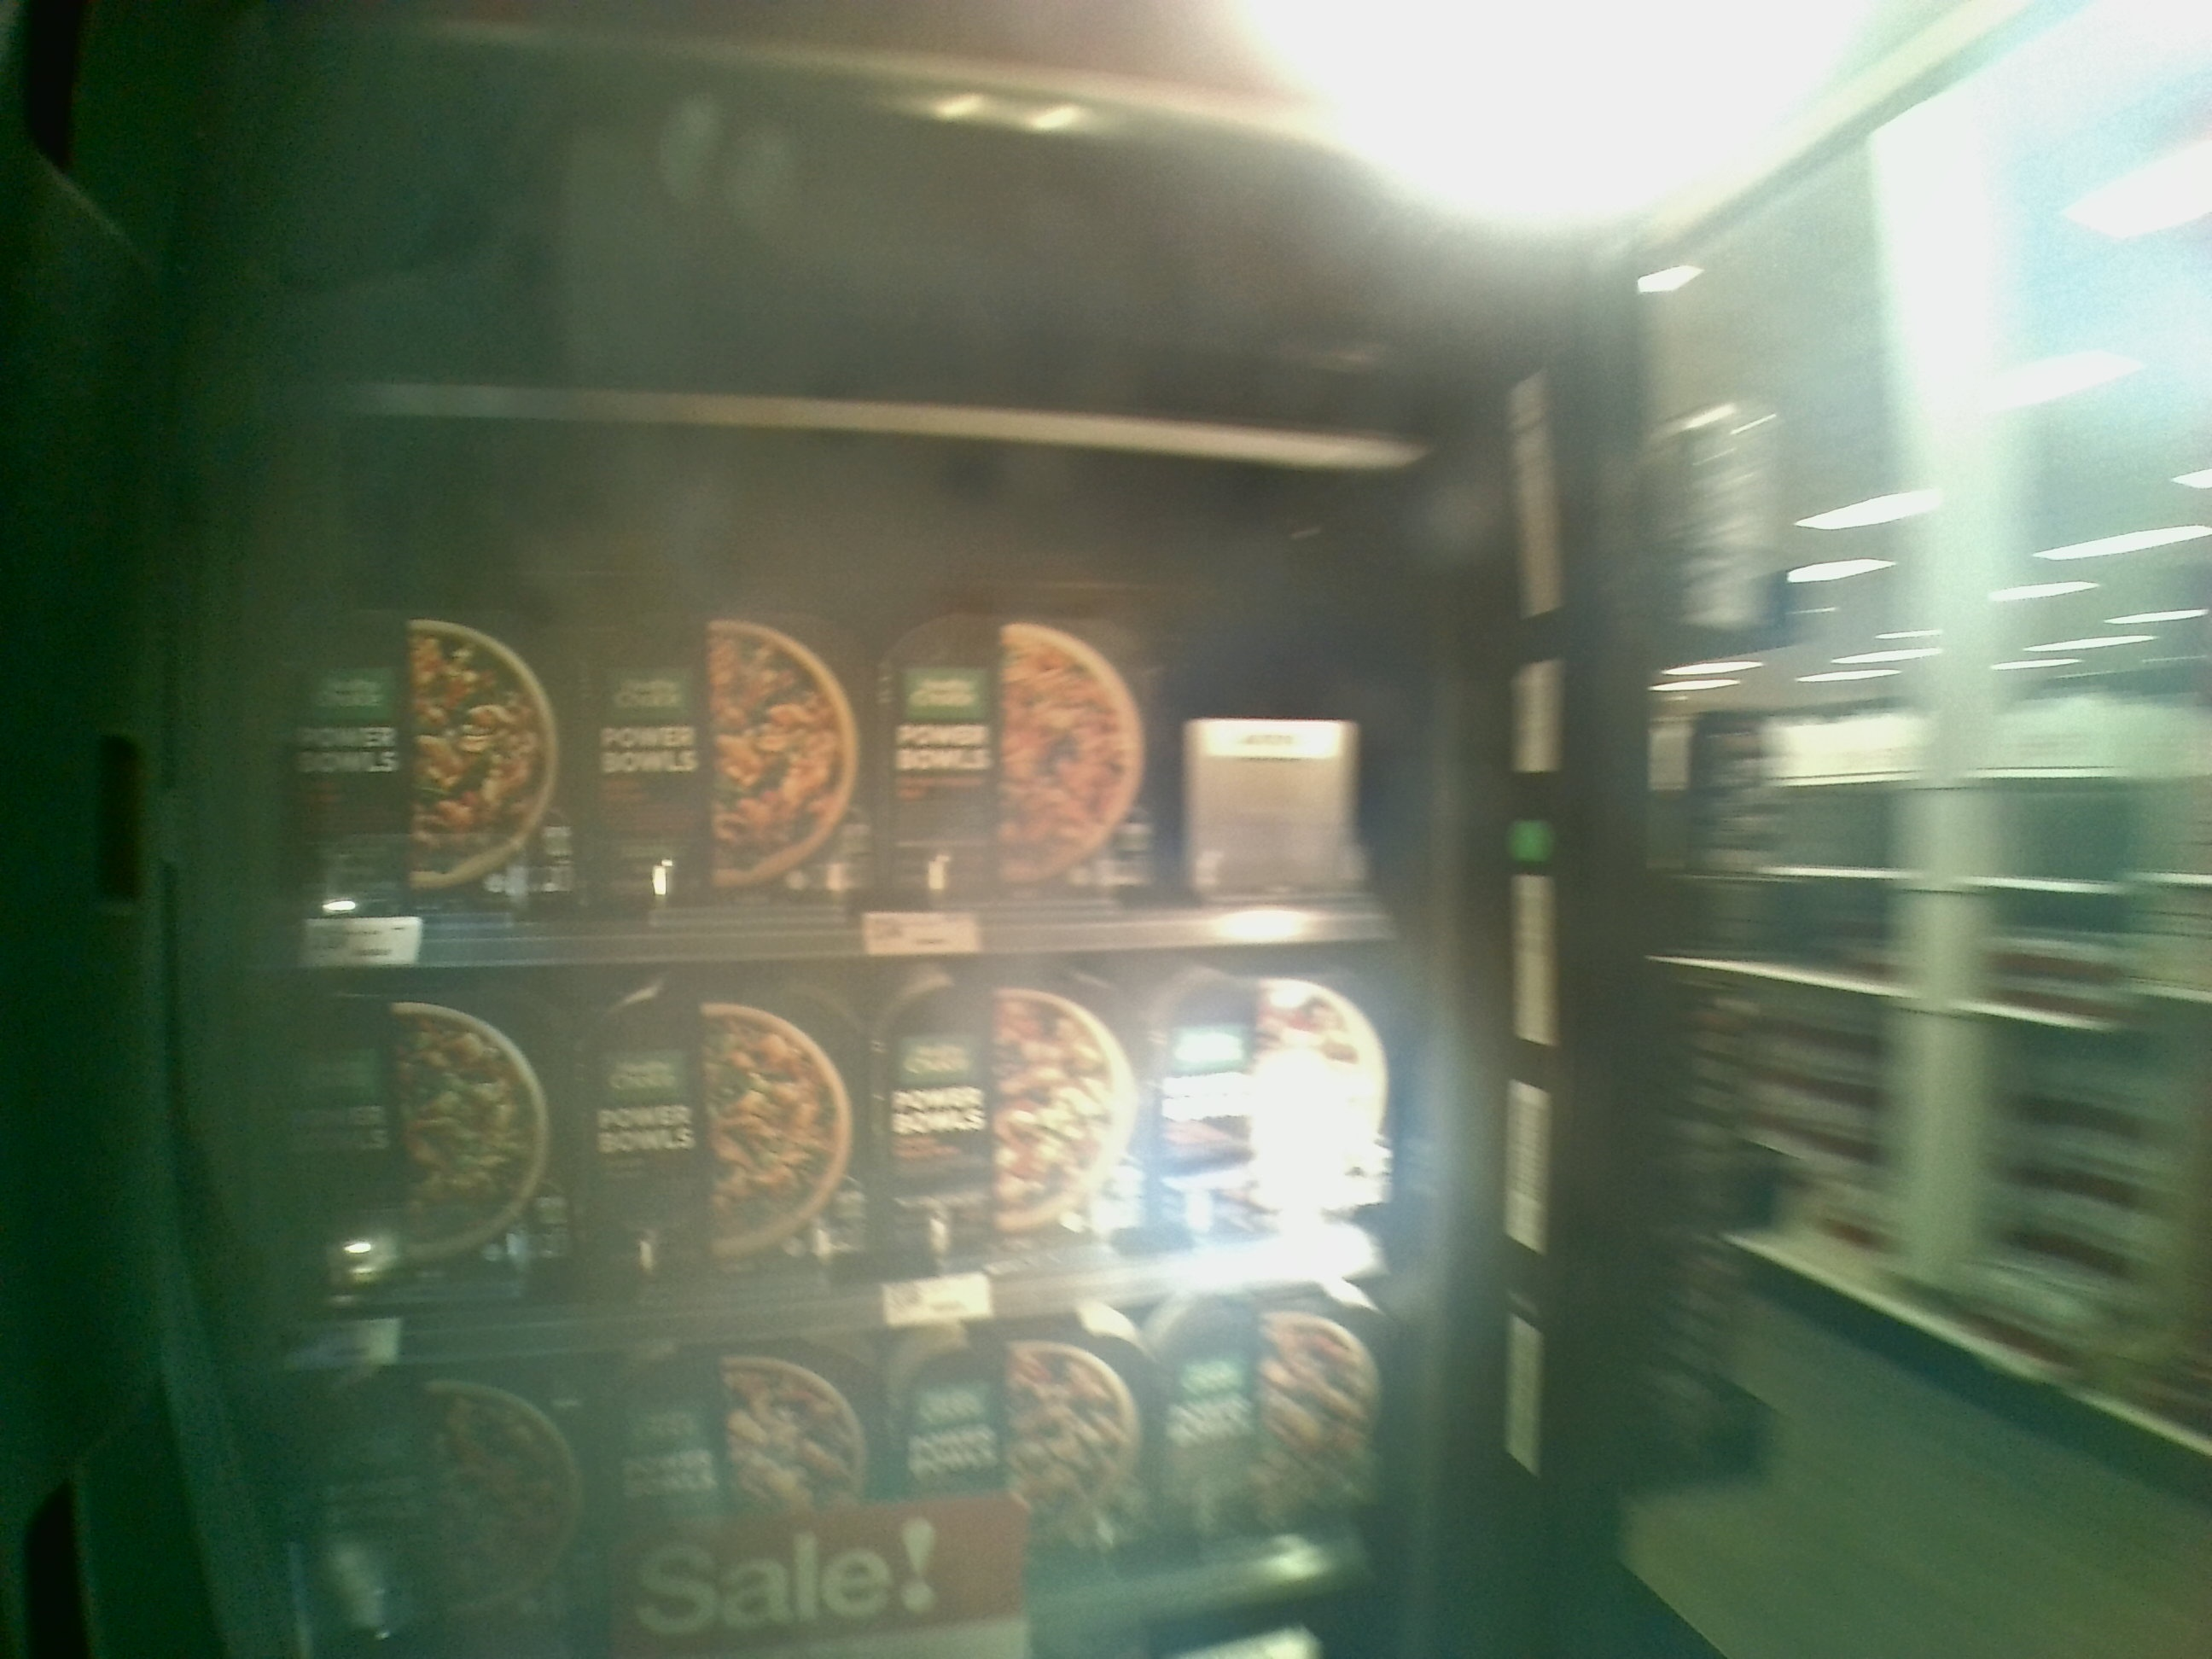shelf: (237, 392, 1442, 953), (256, 950, 1426, 1344)
